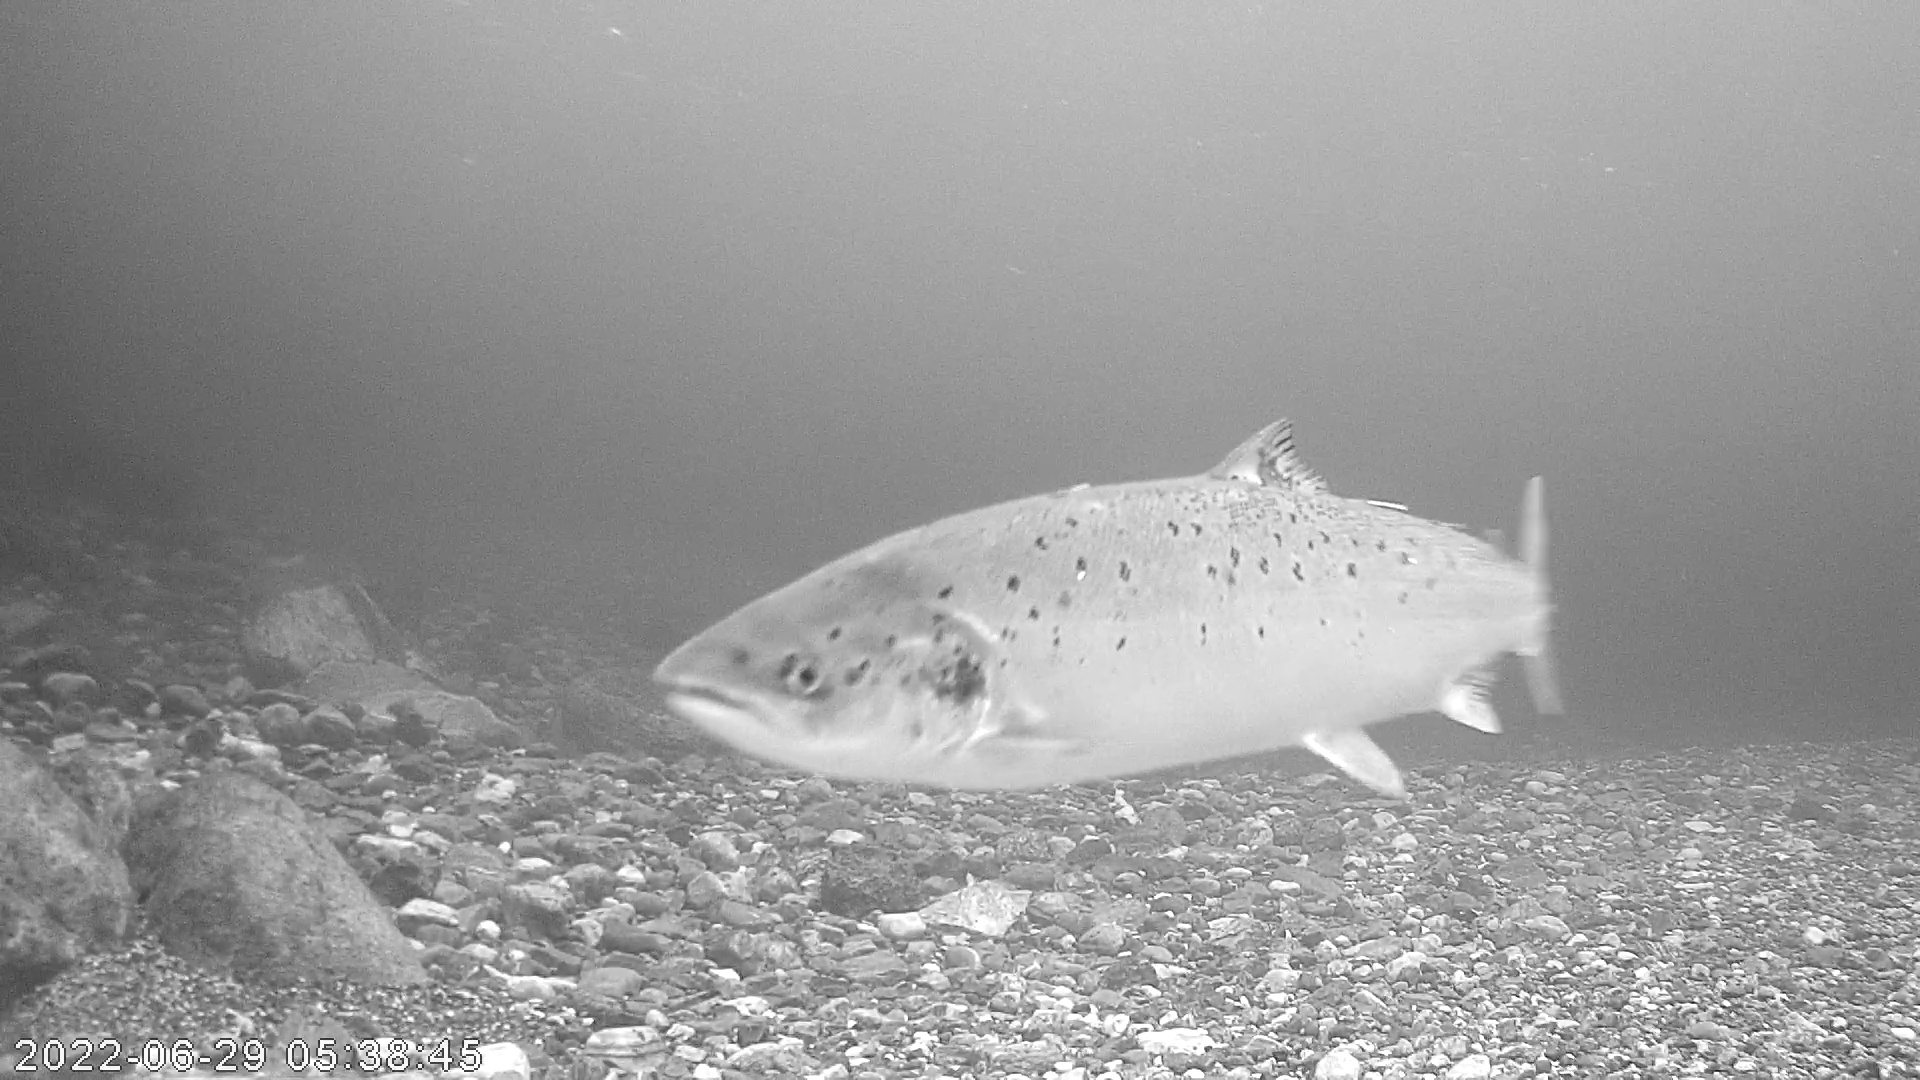salmon: (655, 349, 1552, 796)
